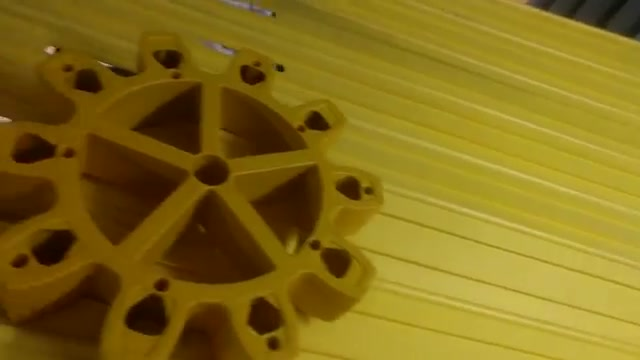gear: (3, 30, 385, 359)
